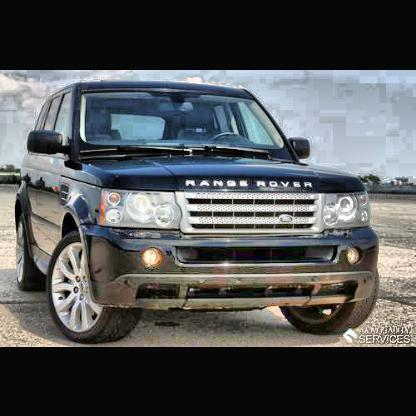Land Rover Range Rover SUV 2012: (15, 80, 381, 342)
